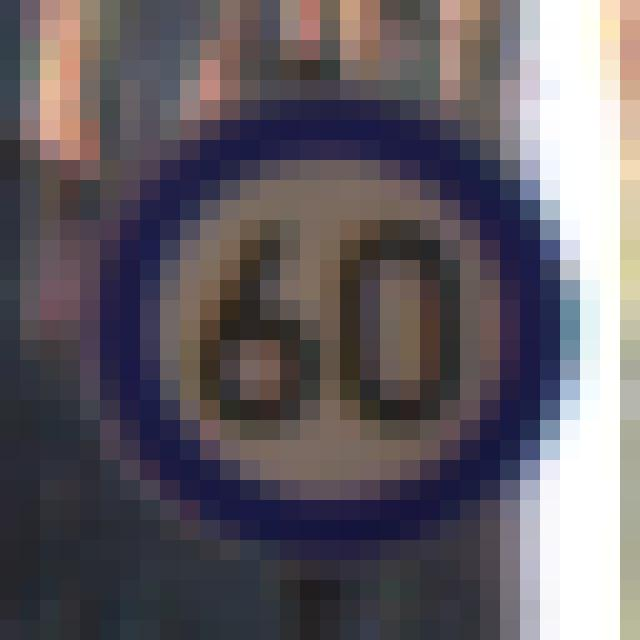SPEED-LIMIT-60: (82, 80, 597, 592)
